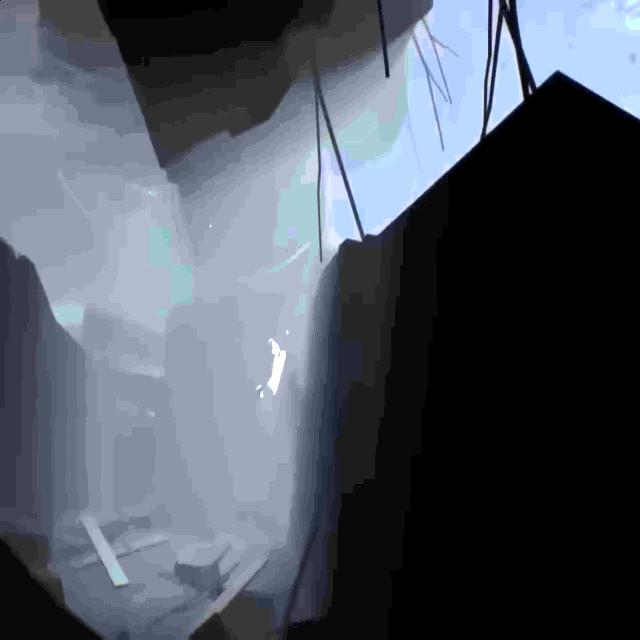boy: (258, 340, 286, 403)
